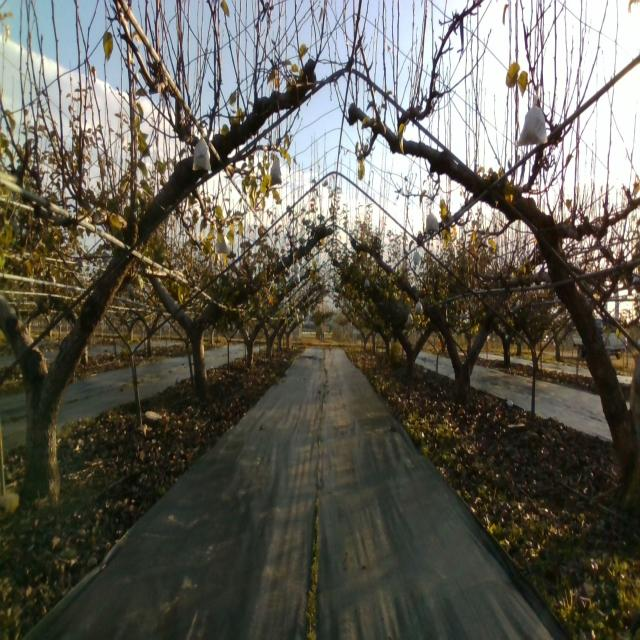pearbags: (516, 95, 548, 146), (192, 130, 212, 172), (426, 207, 439, 233), (270, 159, 282, 187), (214, 234, 230, 255)
